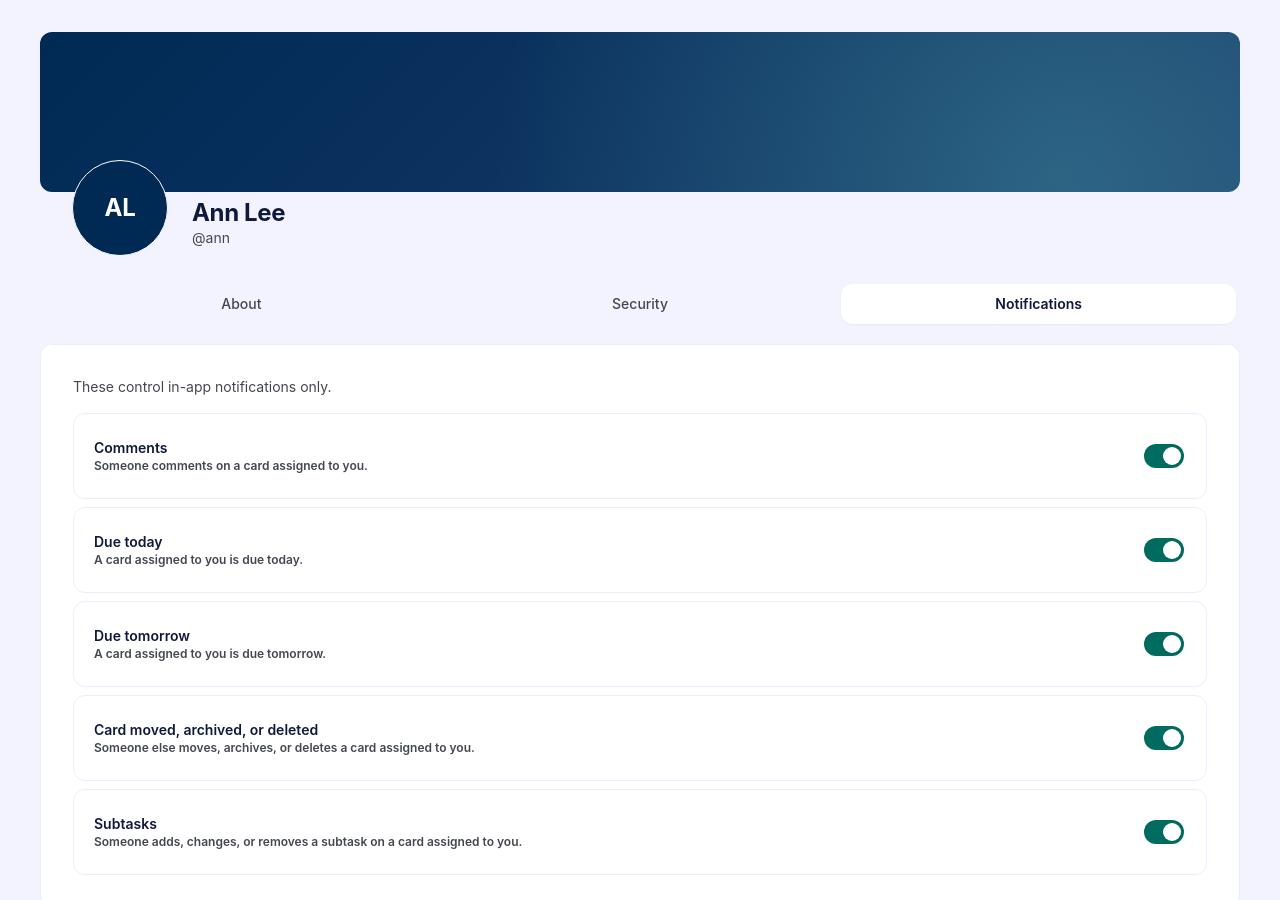
Test: Notifications tab (PRF-06) › rolls a switch back and offers Retry when the save fails
Click the switch named "Subtasks" at (1164, 832), box [1142, 810, 1186, 854]
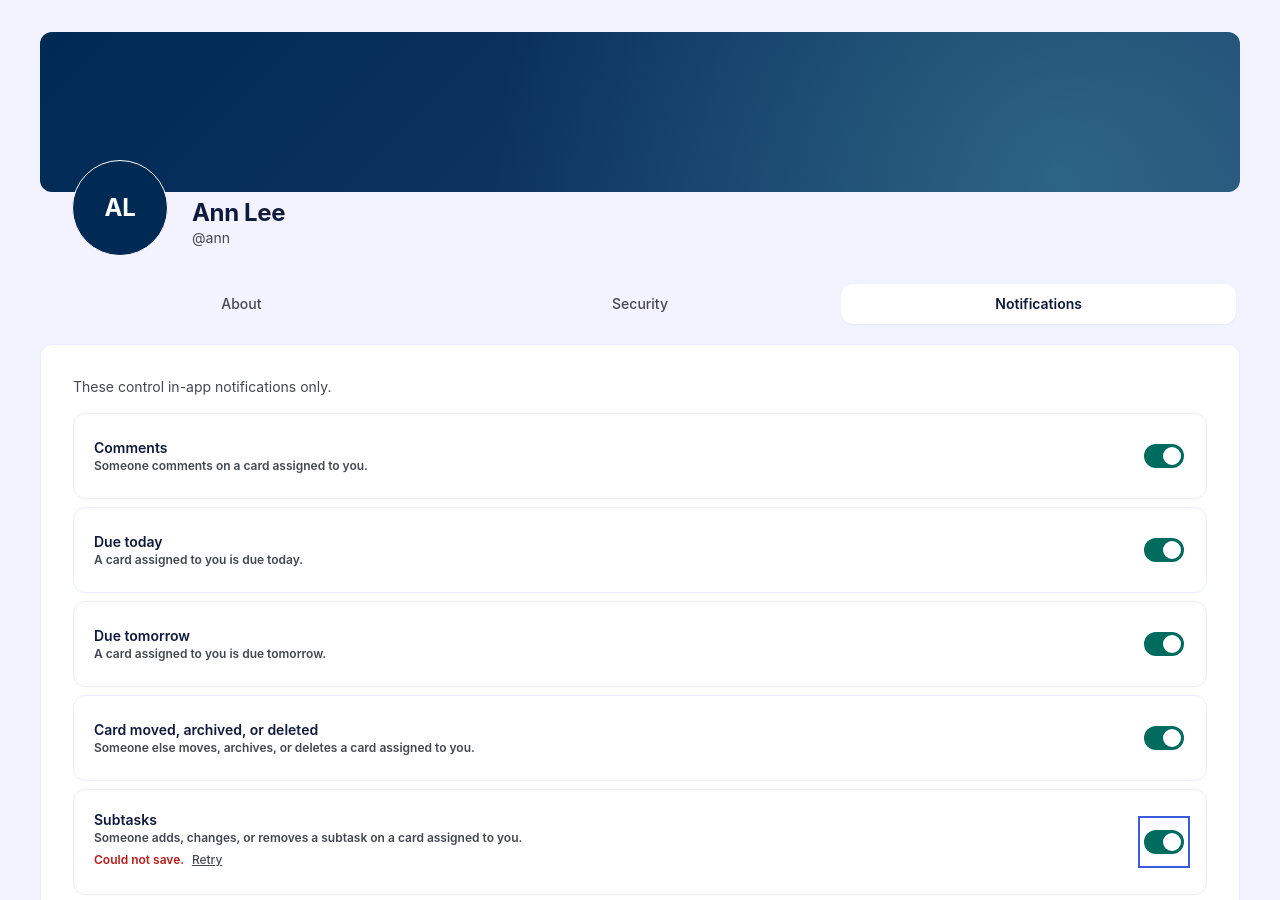
Check: the text "Could not save. Retry" is shown, box [94, 852, 227, 867]
Check: the button "Retry" is shown, box [187, 846, 227, 874]
